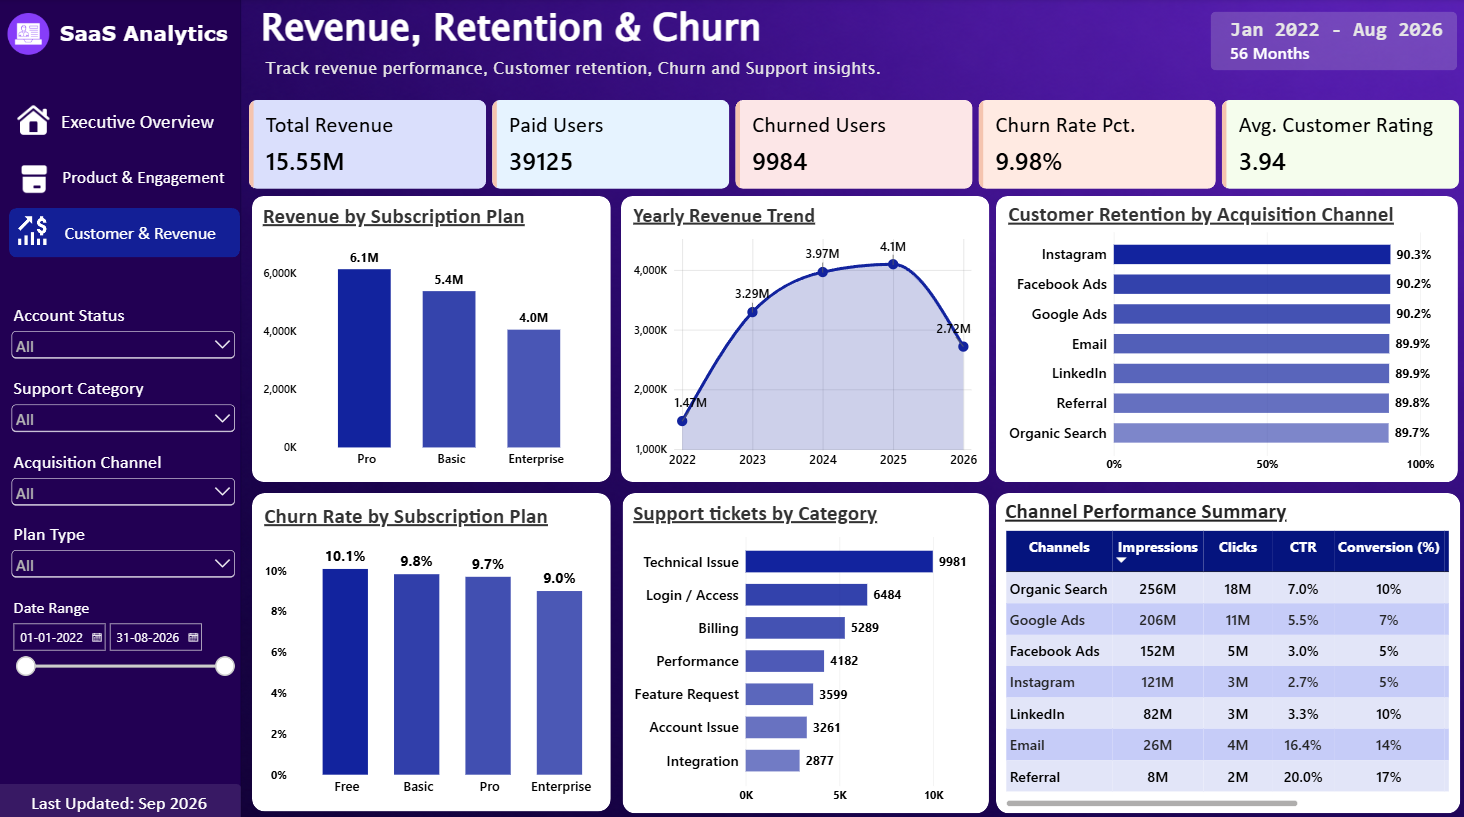

This screenshot's page, from the dashboard's own definition file:
{"tool":"powerbi","page":{"name":"Revenue, Retention, & Churn","canvas":[1920,1080],"ordinal":2},"visuals":[{"type":"shape","box":[333.7,647.3,469.1,416.4],"z":500},{"type":"shape","box":[0,0,320,1077],"z":1000},{"type":"image","box":[13.6,20.4,54.5,54.5],"z":2000},{"type":"textbox","box":[81.8,29.5,233.9,59.1],"z":3000},{"type":"shape","title":"E","box":[8.6,129.4,302,65],"z":4000},{"type":"image","box":[19.4,133.7,56.1,56.1],"z":5000},{"type":"shape","title":"E","box":[15.1,201.8,302,64.7],"z":6000},{"type":"image","box":[21.6,209.2,53.9,53.9],"z":7000},{"type":"shape","title":"E","box":[15.1,274,302,64.7],"z":8000},{"type":"image","box":[21.6,280.4,49.6,47.5],"z":9000},{"type":"cardVisual","fields":{"Data":["Measure_table.Total Revenue","Measure_table.Paid Users","Measure_table.Churned Users","Measure_table.Churn Rate","Measure_table.Avg Customer Rating"]},"box":[329.9,132.4,1582.3,116.2],"z":10000},{"type":"textbox","box":[345.1,2.2,841.3,127.3],"z":11000},{"type":"slicer","title":"Date Range","fields":{"Values":["Calendar.Date"]},"box":[13.6,783.6,299.8,143.1],"z":12000},{"type":"slicer","fields":{"Values":["users.account_status"]},"box":[13.6,397.5,302.1,84],"z":13000},{"type":"slicer","fields":{"Values":["support_tickets.category"]},"box":[13.6,493.4,302.1,84],"z":14000},{"type":"slicer","fields":{"Values":["users.acquisition_channel"]},"box":[13.6,589.4,302.1,84],"z":15000},{"type":"slicer","fields":{"Values":["users.initial_plan"]},"box":[13.6,685.4,302.1,84],"z":16000},{"type":"shape","title":"E","box":[0,1026.8,319.3,51.8],"z":17000},{"type":"shape","box":[1587.6,18.2,322.5,77.2],"z":18000},{"type":"textbox","box":[1612.6,25,302.1,68.1],"z":19000},{"type":"shape","box":[333.7,258.4,469.1,373.8],"z":20000},{"type":"columnChart","title":"Revenue by Subscription Plan","fields":{"Category":["subscriptions.plan_type"],"Y":["Measure_table.Total Revenue"]},"box":[331.2,253.4,471.6,381.3],"z":21000},{"type":"shape","box":[1307,258.4,604,374],"z":22000},{"type":"shape","box":[815.3,258.4,481.7,373.8],"z":23000},{"type":"lineChart","title":"Yearly Revenue Trend","fields":{"Category":["Calendar.Month Start.Variation.Date Hierarchy.Year"],"Y":["Measure_table.Total Revenue"]},"box":[815.3,253.4,481.7,383.8],"z":24000},{"type":"columnChart","title":"Churn Rate by Subscription Plan","fields":{"Category":["users.initial_plan"],"Y":["Measure_table.Churn Rate"]},"box":[333.7,644.7,489.2,419],"z":25000},{"type":"shape","box":[1307,647.3,607.1,419],"z":27000},{"type":"shape","box":[817.8,647.3,479.2,419],"z":28000},{"type":"barChart","title":"Customer Retention by Acquisition Channel","fields":{"Category":["users.acquisition_channel"],"Y":["Measure_table.Customer Retention %"]},"box":[1307,250.9,604.6,390],"z":29000},{"type":"barChart","title":"Support tickets by Category","fields":{"Category":["support_tickets.category"],"Y":["CountNonNull(support_tickets.ticket_id)"]},"box":[815.3,642.2,481.7,431.5],"z":30000},{"type":"tableEx","title":"Channel Performance Summary","fields":{"Values":["marketing_campaigns.channel","Sum(marketing_campaigns.impressions)","Sum(marketing_campaigns.clicks)","Measure_table.Marketing CTR %","Measure_table.Marketing Conversion %","Measure_table.Marketing Spend","Measure_table.Cost per Conversion"]},"box":[1302,639.7,612.1,434],"z":30001}]}

Visuals, with their boxes on the page's 1920x1080 design canvas (x1, y1, x2, y2). These are canvas units, not pixel positions in the 1464x817 screenshot, which may show the page scaled, cropped or inside an application window:
shape: 334 647 803 1064
shape: 0 0 320 1077
image: 14 20 68 75
textbox: 82 30 316 89
"E" shape: 9 129 311 194
image: 19 134 76 190
"E" shape: 15 202 317 266
image: 22 209 76 263
"E" shape: 15 274 317 339
image: 22 280 71 328
cardVisual - Measure_table.Total Revenue x Measure_table.Paid Users: 330 132 1912 249
textbox: 345 2 1186 130
"Date Range" slicer: 14 784 313 927
slicer - users.account_status: 14 398 316 482
slicer - support_tickets.category: 14 493 316 577
slicer - users.acquisition_channel: 14 589 316 673
slicer - users.initial_plan: 14 685 316 769
"E" shape: 0 1027 319 1079
shape: 1588 18 1910 95
textbox: 1613 25 1915 93
shape: 334 258 803 632
"Revenue by Subscription Plan" columnChart: 331 253 803 635
shape: 1307 258 1911 632
shape: 815 258 1297 632
"Yearly Revenue Trend" lineChart: 815 253 1297 637
"Churn Rate by Subscription Plan" columnChart: 334 645 823 1064
shape: 1307 647 1914 1066
shape: 818 647 1297 1066
"Customer Retention by Acquisition Channel" barChart: 1307 251 1912 641
"Support tickets by Category" barChart: 815 642 1297 1074
"Channel Performance Summary" tableEx: 1302 640 1914 1074
